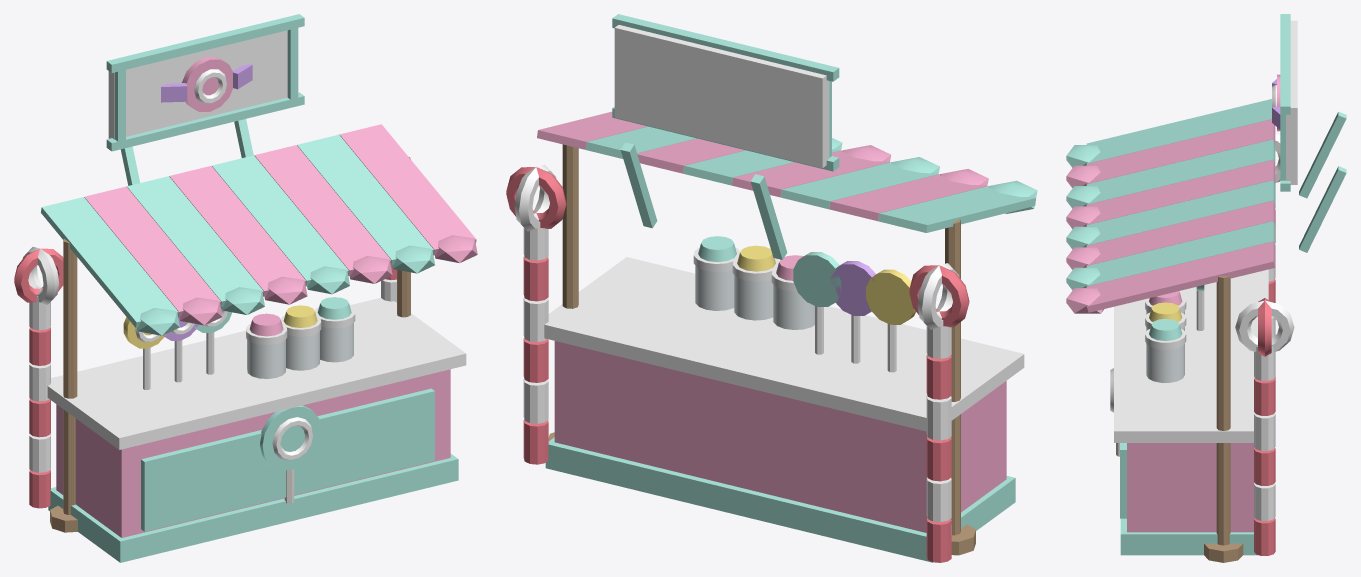
The model's file is stall_candy.glb.
3 views of the same model, side by side, from view 1: azimuth 30°, elevation 25°; view 2: azimuth 150°, elevation 25°; view 3: azimuth 270°, elevation 25° (orthographic). The views are drawn at different scales.
Parts seen in each view (by area): view 1: stall_candy; view 2: stall_candy; view 3: stall_candy.
Boxes of the visible parts, box(x1,y1,x2,y2) form: stall_candy: box(14, 14, 477, 562); stall_candy: box(506, 14, 1037, 562); stall_candy: box(1066, 14, 1346, 562).
Size of the model in its own units: 3.56 by 3.55 by 2.18.
